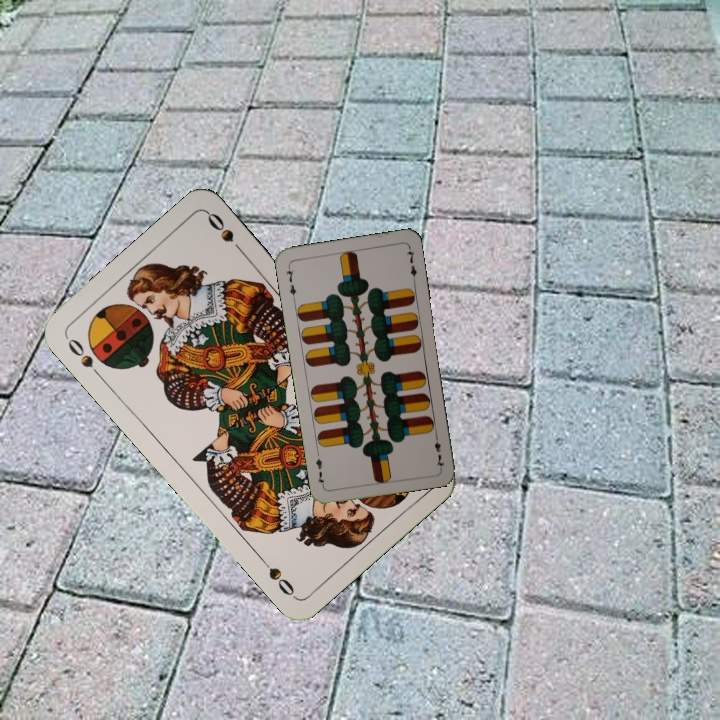E7: (282, 262, 299, 302), (430, 430, 447, 470)
SO: (62, 333, 105, 382)
